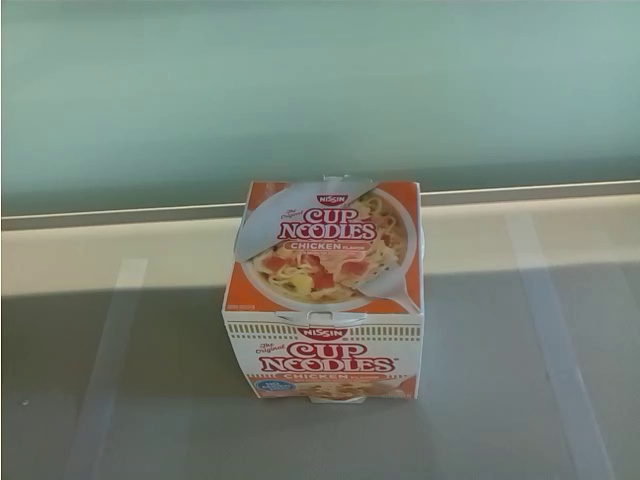noodles: (226, 177, 427, 408)
